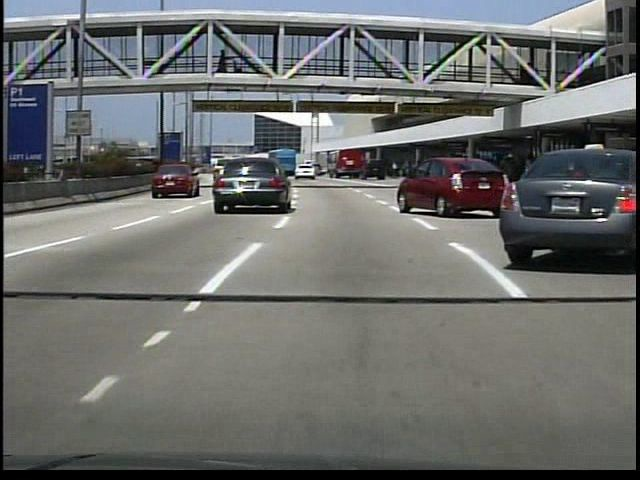person: (220, 49, 235, 77)
